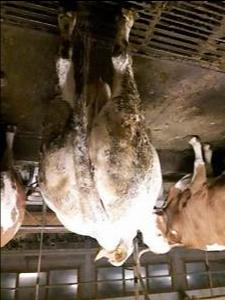cow: (37, 1, 168, 267), (138, 135, 225, 258)
